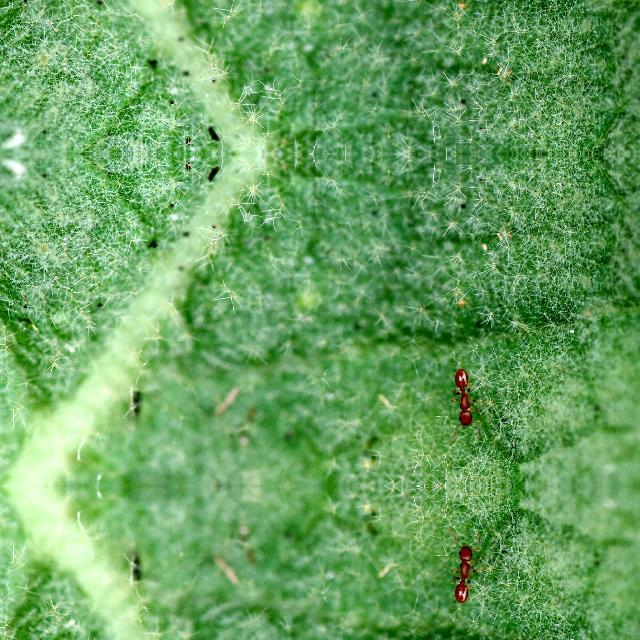Temnothorax: (429, 362, 499, 432), (429, 538, 499, 608)
